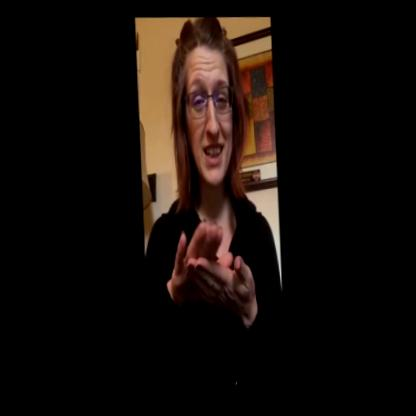NiceToMeetYou: (158, 214, 267, 338)
